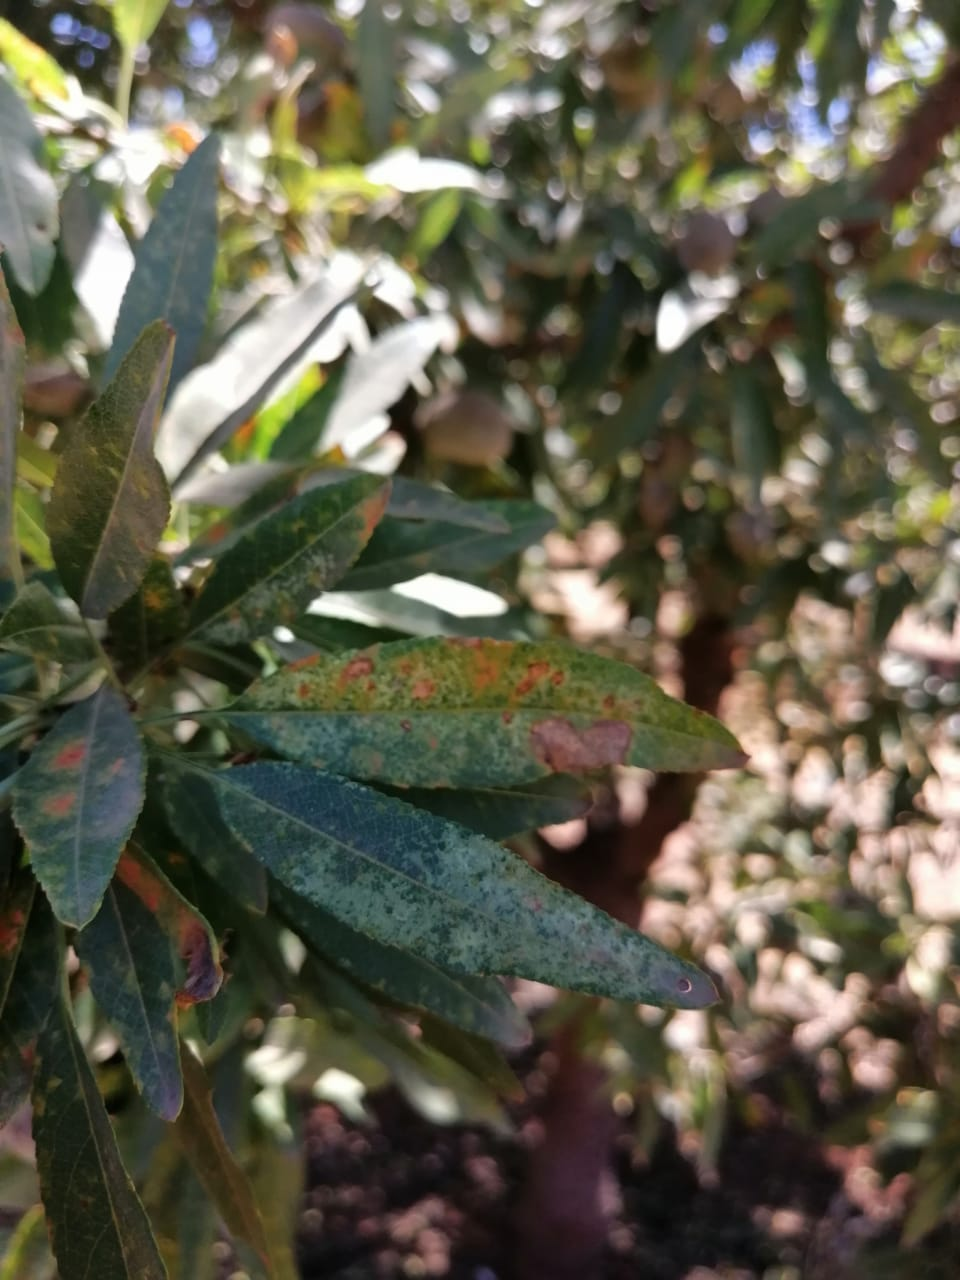faux tigre: (211, 756, 724, 1014), (224, 633, 752, 792)
